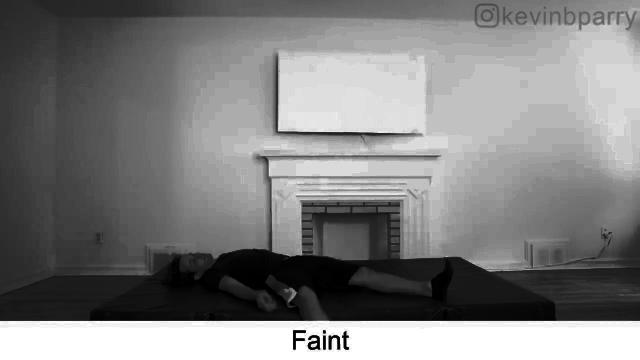jatuh: (157, 238, 455, 312)
